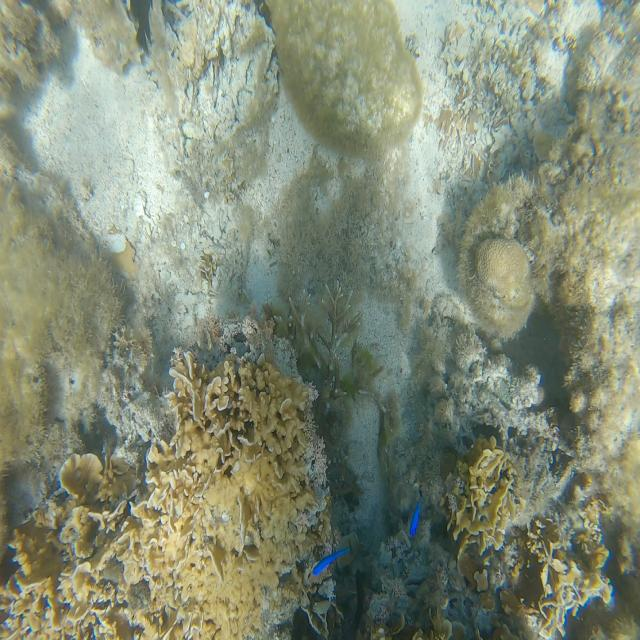rurisuzumedai: (313, 549, 350, 576), (410, 502, 421, 536)
